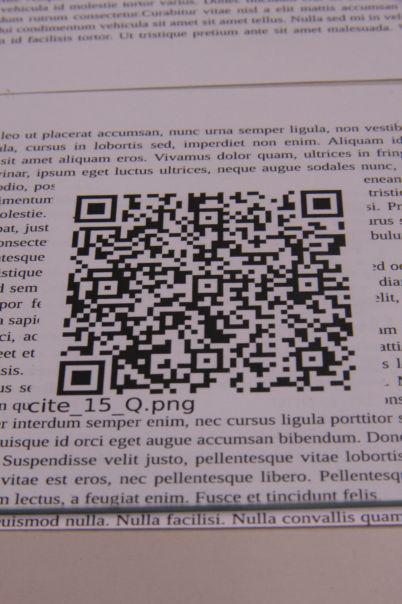Finder pattern: (53, 358, 108, 401), (296, 185, 347, 224), (71, 193, 120, 225)
